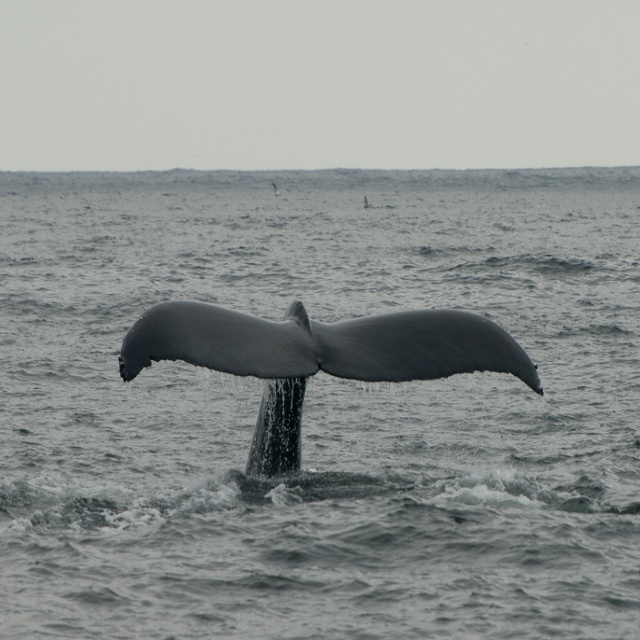Whale: (118, 300, 544, 482)
